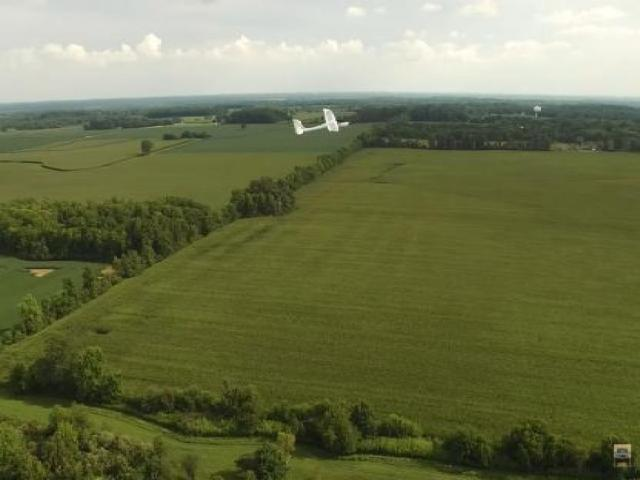uav: (285, 103, 357, 143)
